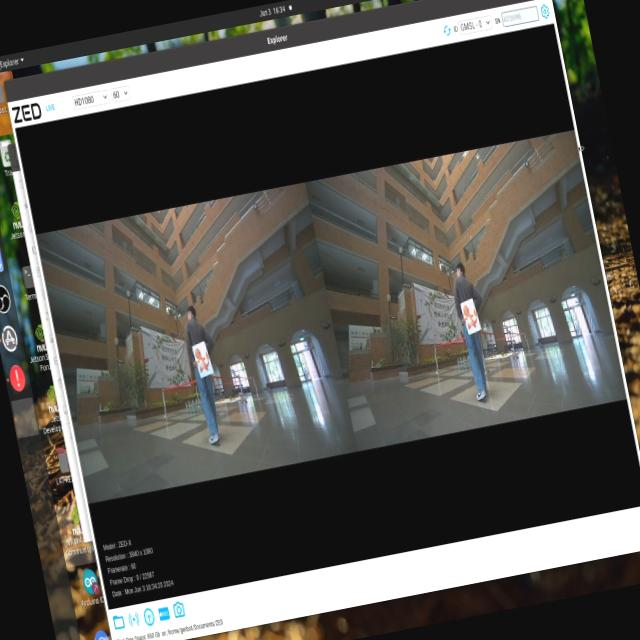red: (190, 338, 220, 376), (459, 304, 482, 342)
